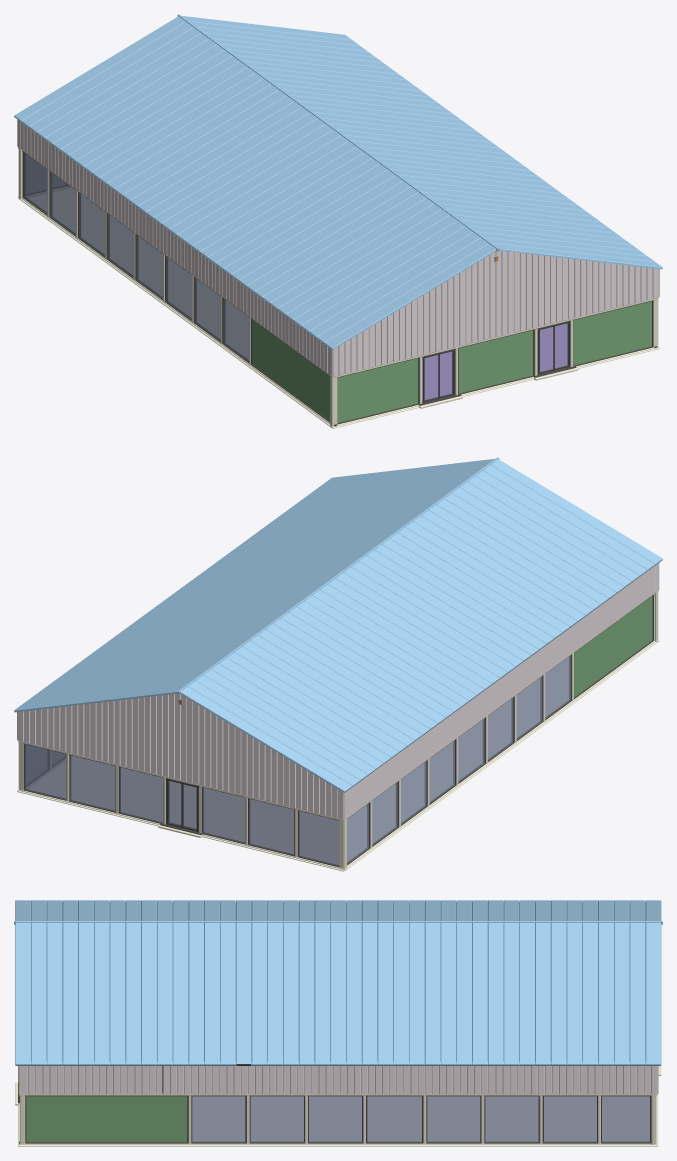
Rendered from war-factory.obj.
3 views of the same model, one above another, from view 1: azimuth 30°, elevation 25°; view 2: azimuth 150°, elevation 25°; view 3: azimuth 270°, elevation 25° (orthographic).
Parts seen in each view (by area): view 1: build62; view 2: build62; view 3: build62.
Part boxes in pixels (bbox=[...]): build62: bbox=[14, 14, 662, 428]; build62: bbox=[14, 457, 662, 871]; build62: bbox=[14, 900, 662, 1146].
Bounding box in the file's own units: 686 × 282 × 1146.
